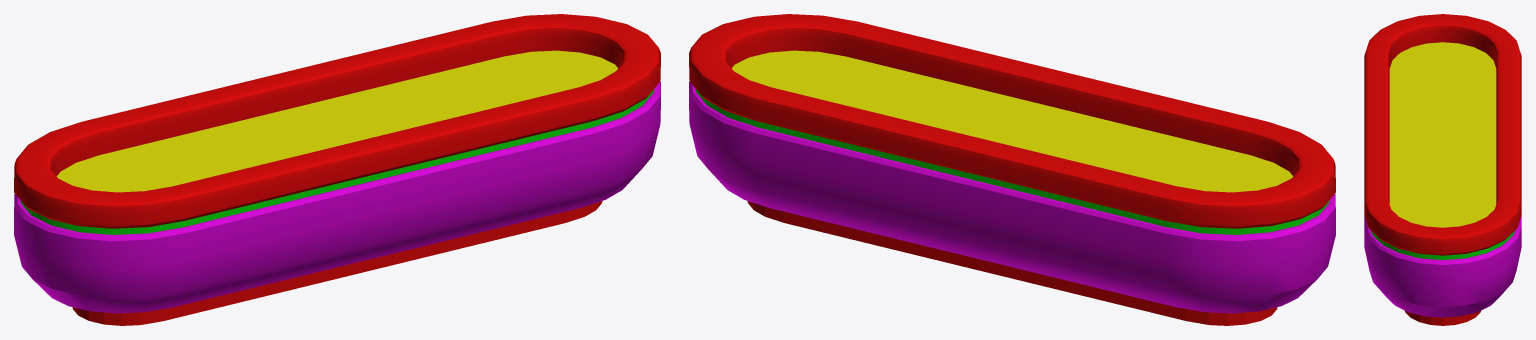
Rendered from SM_FlowerPot001.fbx.
3 views of the same model, side by side, from view 1: azimuth 30°, elevation 25°; view 2: azimuth 150°, elevation 25°; view 3: azimuth 270°, elevation 25° (orthographic). The views are drawn at different scales.
Visible parts, largest first — view 1: flowerpot001; view 2: flowerpot001; view 3: flowerpot001.
Boxes of the visible parts, box(x1,y1,x2,y2) form: flowerpot001: box(14, 14, 660, 325); flowerpot001: box(689, 14, 1335, 325); flowerpot001: box(1364, 14, 1521, 325).
Bounding box in the file's own units: 431 × 95.12 × 127.
